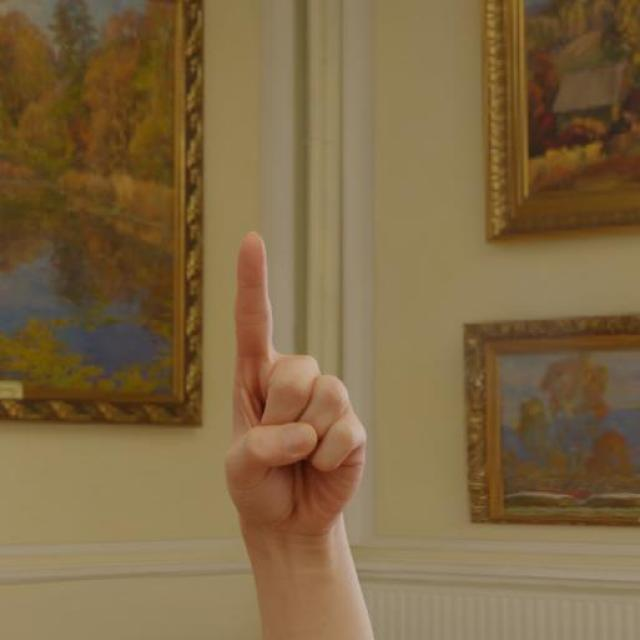Z: (221, 227, 370, 542)
